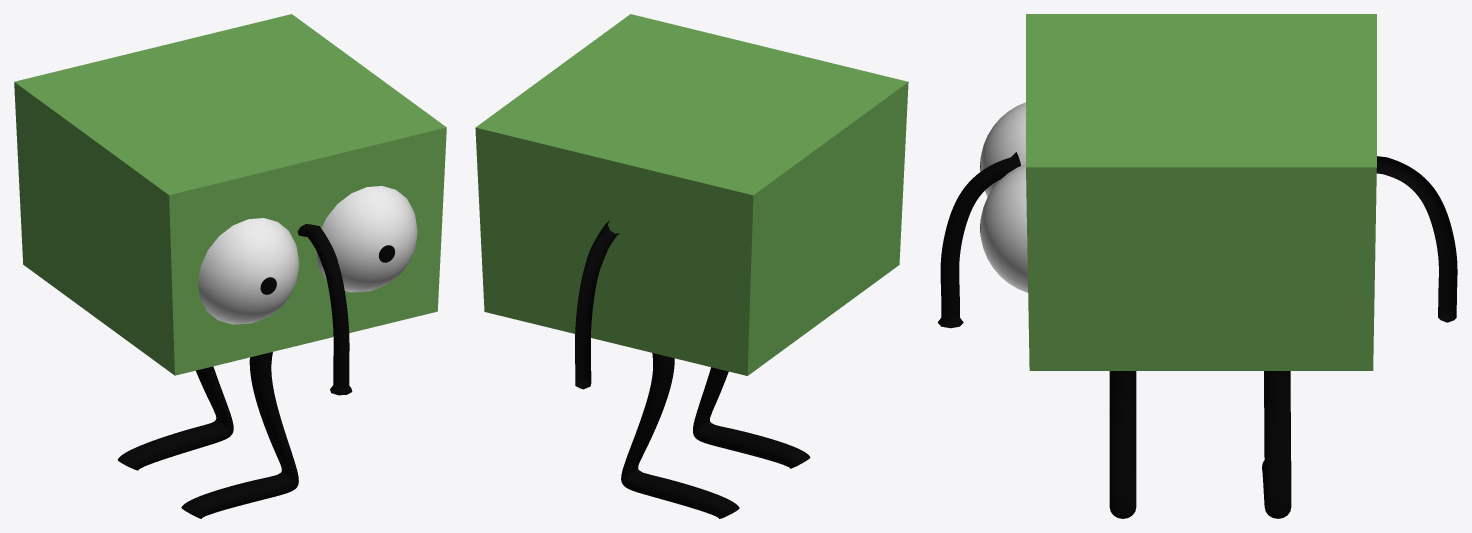
The model's file is chr_box.fbx.
The picture shows the model from 3 angles, left to right: view 1: azimuth 30°, elevation 25°; view 2: azimuth 150°, elevation 25°; view 3: azimuth 270°, elevation 25°; orthographic projection. The views are drawn at different scales.
Visible parts, largest first — view 1: Body, L_Eye1, L_Eye, L_Leg, R_Leg, L_Arm; view 2: Body, R_Leg, L_Leg, R_Arm; view 3: Body, L_Eye, L_Leg, R_Leg, L_Arm, R_Arm, L_Eye1.
Part boxes in pixels (x1,y1,x2,y2): Body: (14,14,446,375); L_Eye1: (198,218,299,324); L_Eye: (316,186,417,292); L_Leg: (181,352,298,518); R_Leg: (118,366,233,470); L_Arm: (297,224,352,395); Body: (475,14,908,375); R_Leg: (621,353,739,518); L_Leg: (693,367,810,468); R_Arm: (575,220,619,389); Body: (1026,14,1376,370); L_Eye: (980,164,1028,292); L_Leg: (1109,371,1136,518); R_Leg: (1262,371,1291,518); L_Arm: (937,152,1020,328); R_Arm: (1376,156,1457,322); L_Eye1: (980,102,1025,196).
Bounding box in the file's own units: 1.06 × 1.36 × 1.51.
